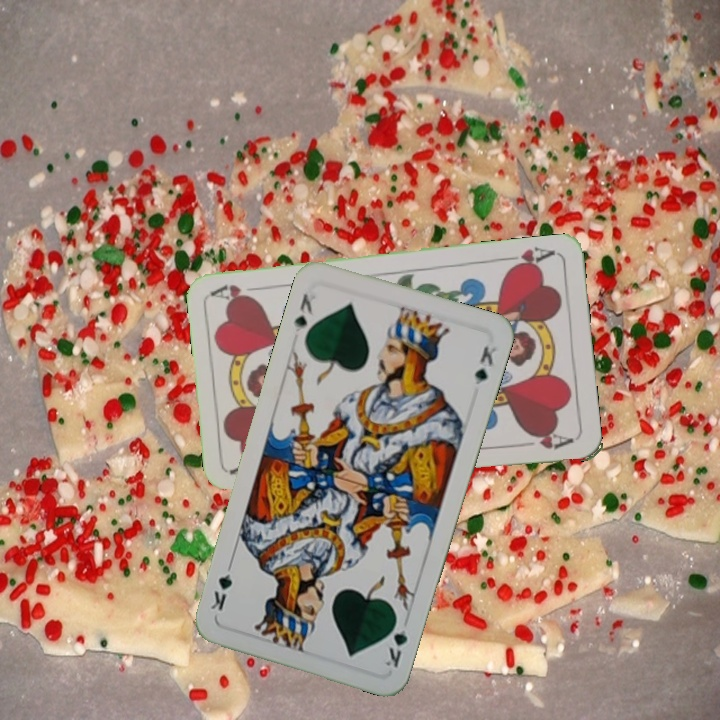GK: (381, 612, 411, 670), (290, 289, 316, 335)
HA: (499, 243, 558, 273)
